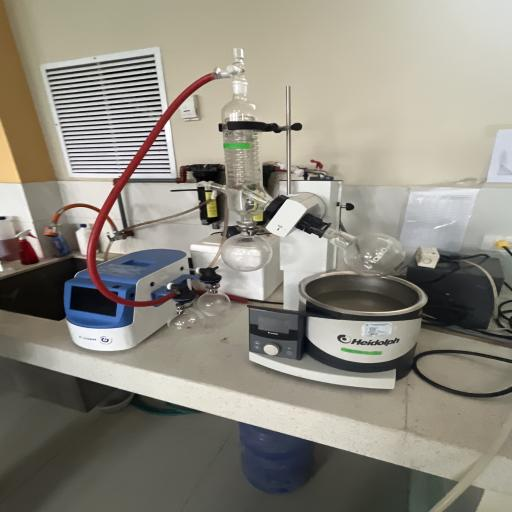Sistema_Rotaevaporacion: (49, 40, 446, 388)
